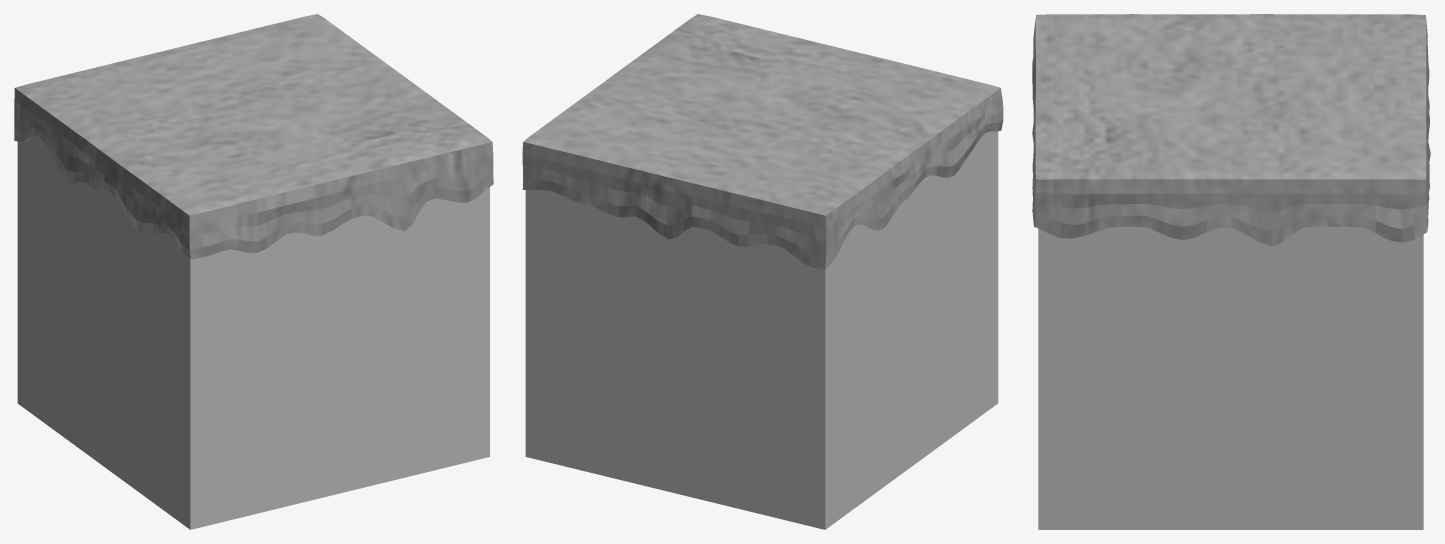
The model's file is GrassCube1.fbx.
3 views of the same model, side by side, from view 1: azimuth 30°, elevation 25°; view 2: azimuth 150°, elevation 25°; view 3: azimuth 270°, elevation 25° (orthographic). The views are drawn at different scales.
Visible parts, largest first — view 1: Cube; view 2: Cube; view 3: Cube.
Part boxes in pixels (bbox=[...]): Cube: bbox=[14, 14, 493, 529]; Cube: bbox=[522, 14, 1003, 529]; Cube: bbox=[1032, 14, 1430, 529].
Size of the model in its own units: 209 by 202 by 207.
